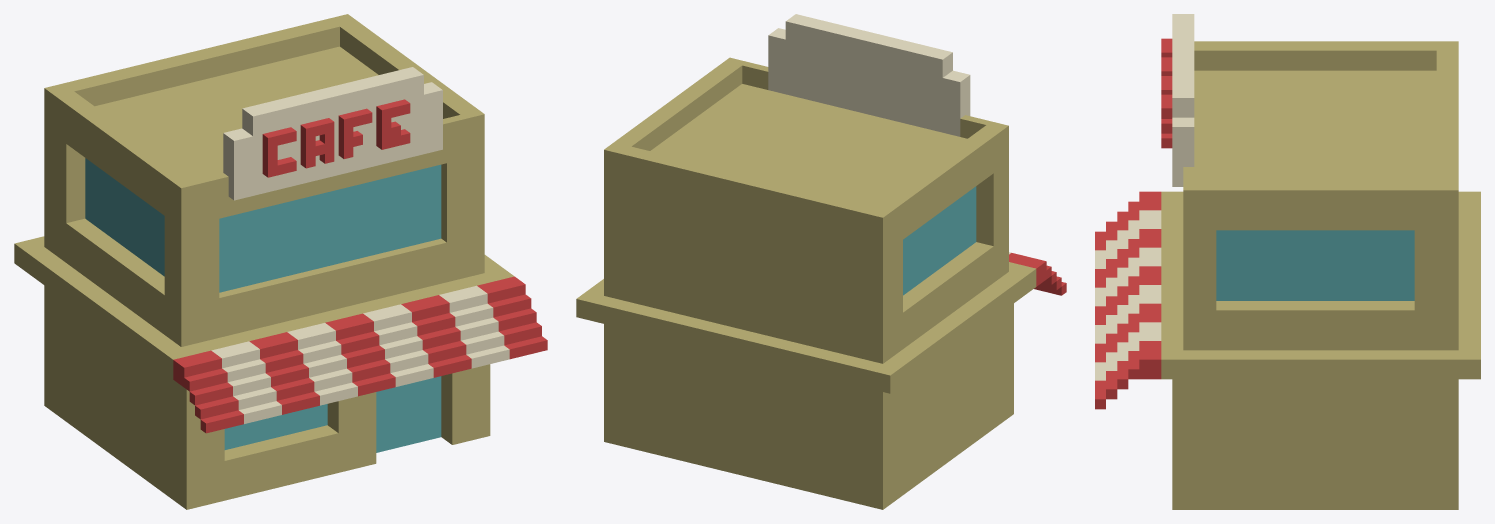
File: Building10.fbx
The picture shows the model from 3 angles, left to right: view 1: azimuth 30°, elevation 25°; view 2: azimuth 150°, elevation 25°; view 3: azimuth 270°, elevation 25°; orthographic projection. The views are drawn at different scales.
Visible parts, largest first — view 1: ObjObject.013; view 2: ObjObject.013; view 3: ObjObject.013.
Boxes of the visible parts, x1=… form: ObjObject.013: x1=14, y1=14, x2=547, y2=509; ObjObject.013: x1=576, y1=14, x2=1066, y2=509; ObjObject.013: x1=1095, y1=14, x2=1480, y2=509.
Size of the model in its own units: 360 by 350 by 380.
Materials: 1 (1 with a texture image).
